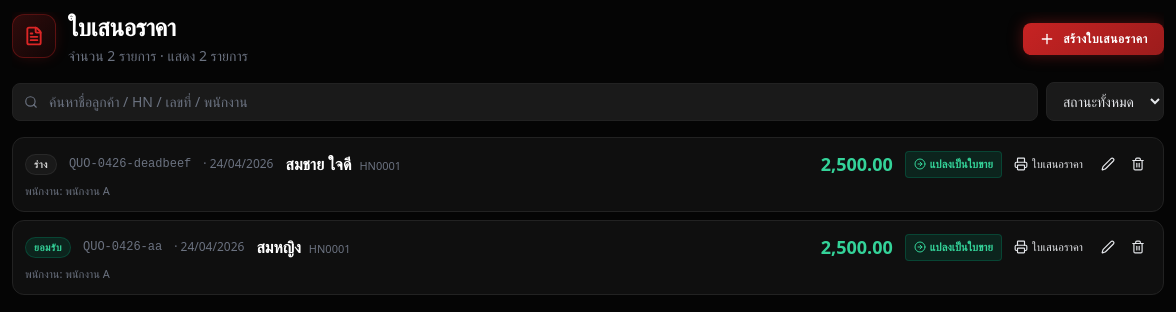
Test: QuotationTab › QT3: status filter isolates
Expected: the text "สมชาย ใจดี" is shown, [286, 153, 351, 175]
Select "ยอมรับ" in the dropdown showing "สถานะทั้งหมด". click: (1105, 102)
box: [1046, 82, 1164, 121]
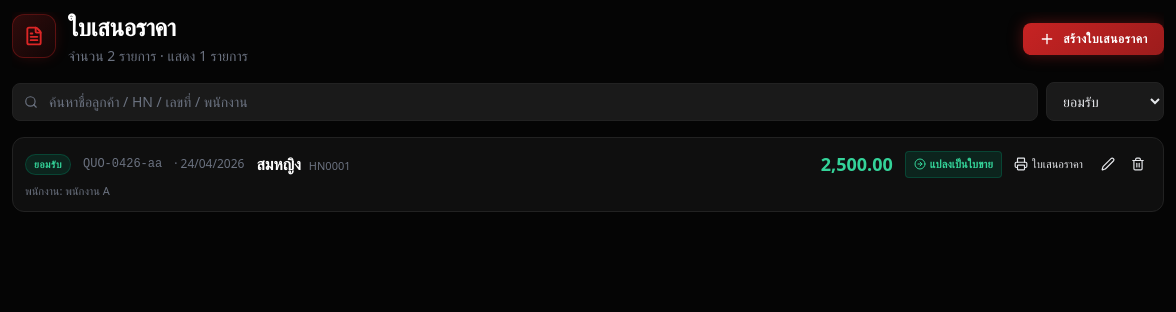
Expected: the text "สมหญิง" is shown, [256, 153, 301, 175]
Expected: the text "สมชาย ใจดี" is gone
